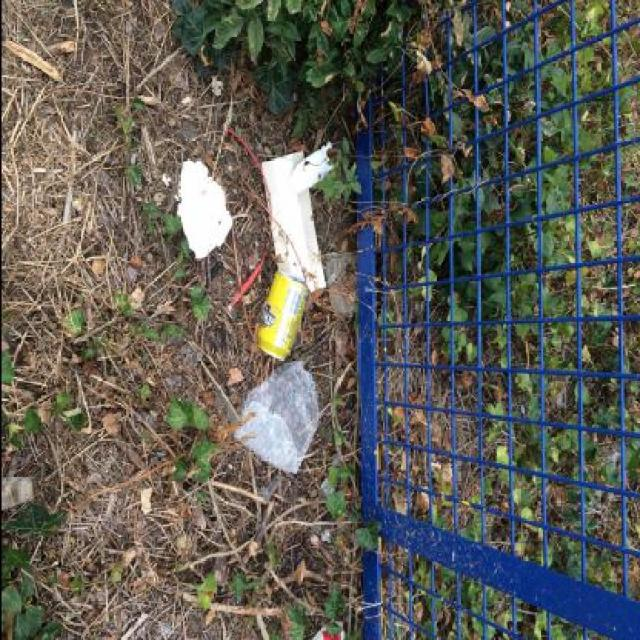cardboard: (260, 152, 325, 293)
metal: (256, 268, 307, 363)
other: (286, 142, 332, 193)
paper: (324, 253, 356, 318)
plastic: (233, 362, 318, 476)
